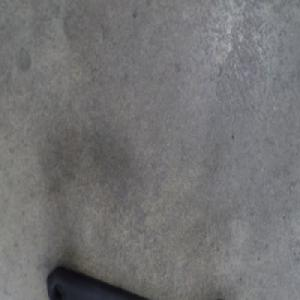AdjustableWrench: (48, 263, 150, 299)
